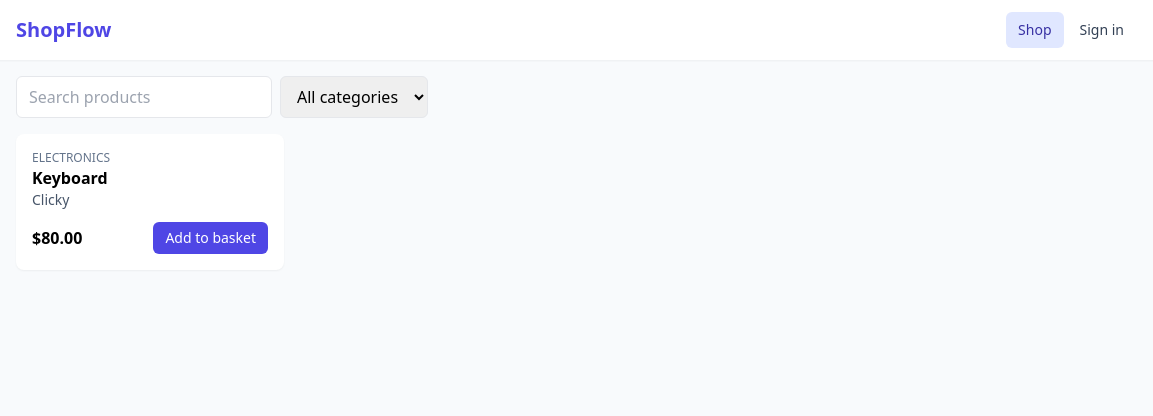
Scenario: shop › redirects to sign in when adding without an account
Click the button "Add to basket".
click(211, 238)  # box x1=153 y1=222 x2=268 y2=254
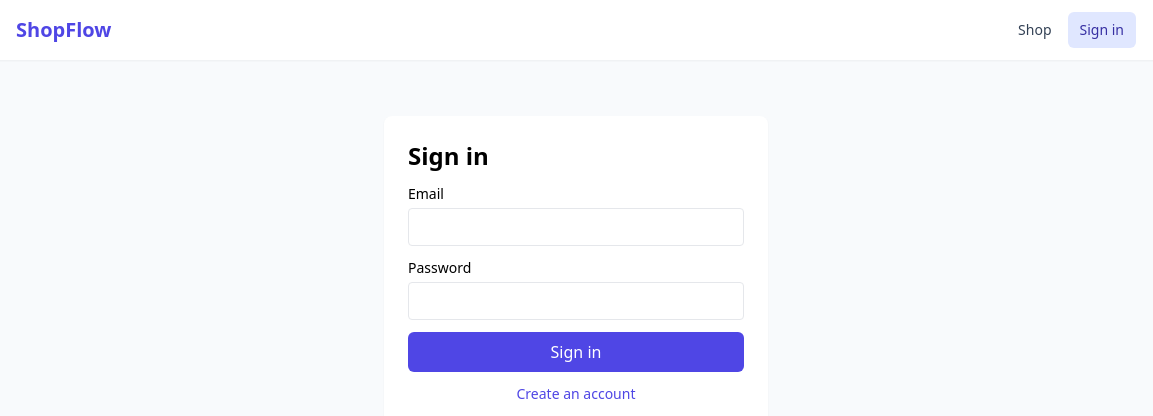
Expected: the heading "Sign in" is shown, x1=408 y1=139 x2=489 y2=172
